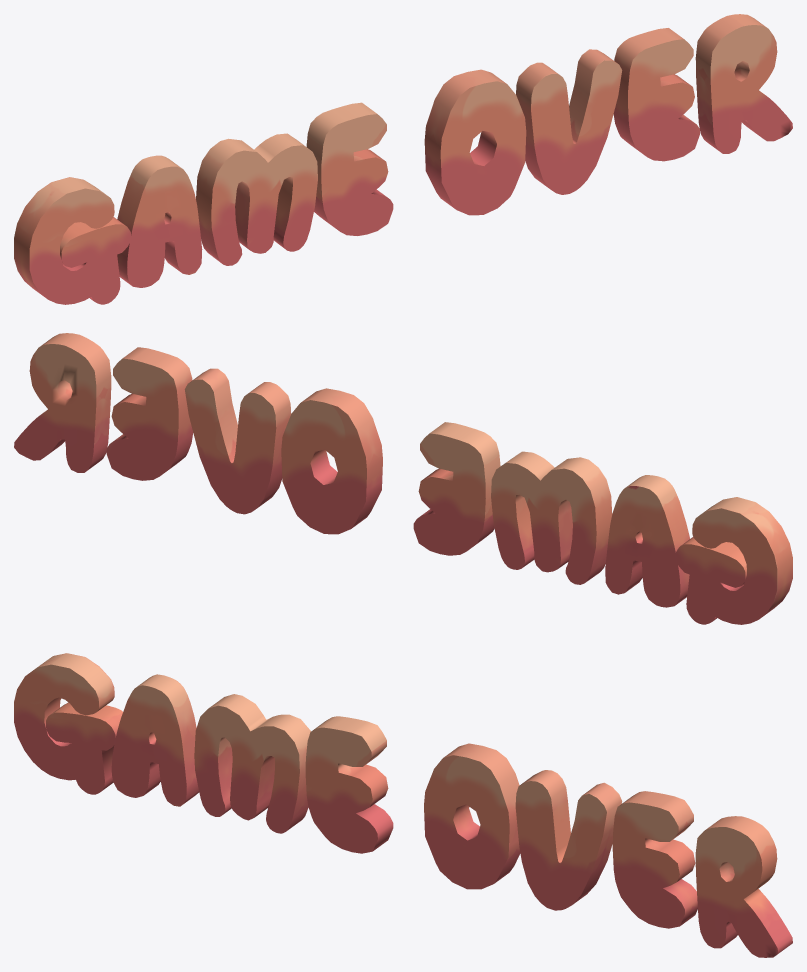
The model's file is GameOver.fbx.
3 views of the same model, one above another, from view 1: azimuth 30°, elevation 25°; view 2: azimuth 150°, elevation 25°; view 3: azimuth 330°, elevation 25° (orthographic).
Parts seen in each view (by area): view 1: M, O.001, G.001, V, R.002, E.005, E.004, A.002; view 2: M, O.001, G.001, V, R.002, E.005, E.004, A.002; view 3: M, O.001, G.001, V, R.002, E.004, E.005, A.002.
Part boxes in pixels (x1,y1,x2,y2): M: [196, 133, 317, 265]; O.001: [424, 69, 526, 215]; G.001: [14, 177, 130, 304]; V: [516, 49, 622, 194]; R.002: [695, 14, 792, 153]; E.005: [613, 28, 699, 161]; E.004: [306, 102, 393, 235]; A.002: [117, 155, 202, 287]; M: [491, 451, 612, 584]; O.001: [281, 388, 382, 534]; G.001: [675, 497, 792, 624]; V: [184, 368, 291, 514]; R.002: [14, 333, 111, 472]; E.005: [106, 347, 193, 480]; E.004: [413, 422, 500, 555]; A.002: [605, 475, 689, 607]; M: [194, 694, 310, 833]; O.001: [424, 743, 520, 889]; G.001: [14, 653, 122, 794]; V: [515, 770, 622, 910]; R.002: [695, 816, 792, 957]; E.004: [305, 716, 393, 853]; E.005: [612, 791, 697, 928]; A.002: [111, 674, 198, 806].
Bounding box in the file's own units: 322 × 53.22 × 12.46.
